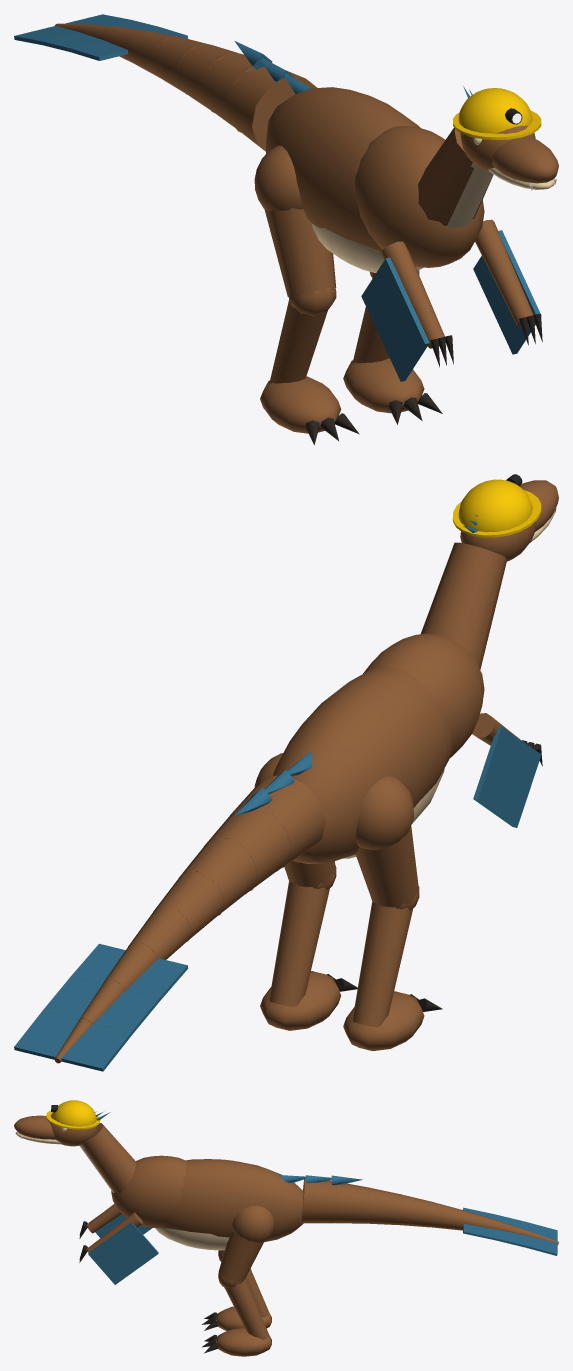
The model's file is dino_raptor_hf2c200.glb.
The picture shows the model from 3 angles, top to bottom: view 1: azimuth 30°, elevation 25°; view 2: azimuth 150°, elevation 25°; view 3: azimuth 270°, elevation 25°; orthographic projection. The views are drawn at different scales.
Parts seen in each view (by area): view 1: dino_hips, dino_head, dino_arms_0_sh, dino_legs_0_hip, dino_arms_1_sh, dino_neckBase, dino_legs_0_ankle, dino_legs_0_knee, dino_legs_1_ankle, dino_tail_0_p, dino_tail_1_p, dino_tail_2_p (+6 smaller); view 2: dino_hips, dino_legs_0_hip, dino_neckBase, dino_head, dino_arms_0_sh, dino_legs_1_knee, dino_legs_0_knee, dino_tail_7_p, dino_tail_6_p, dino_tail_5_p, dino_tail_1_p, dino_tail_0_p (+6 smaller); view 3: dino_hips, dino_arms_1_sh, dino_head, dino_legs_1_hip, dino_neckBase, dino_tail_0_p, dino_legs_1_knee, dino_legs_1_ankle, dino_tail_1_p, dino_tail_2_p, dino_tail_3_p, dino_tail_5_p (+6 smaller).
Boxes of the visible parts, box(x1,y1,x2,y2) form: dino_hips: box(234, 41, 484, 273); dino_head: box(452, 86, 558, 190); dino_arms_0_sh: box(361, 241, 453, 381); dino_legs_0_hip: box(254, 145, 336, 297); dino_arms_1_sh: box(473, 219, 542, 354); dino_neckBase: box(418, 128, 493, 227); dino_legs_0_ankle: box(260, 376, 359, 445); dino_legs_0_knee: box(269, 287, 336, 383); dino_legs_1_ankle: box(343, 357, 442, 424); dino_tail_0_p: box(225, 67, 317, 151); dino_tail_1_p: box(201, 53, 253, 132); dino_tail_2_p: box(176, 44, 240, 112); dino_hips: box(234, 633, 484, 863); dino_legs_0_hip: box(355, 776, 419, 908); dino_neckBase: box(421, 542, 507, 669); dino_head: box(452, 474, 558, 561); dino_arms_0_sh: box(472, 713, 542, 827); dino_legs_1_knee: box(269, 865, 336, 1006); dino_legs_0_knee: box(352, 886, 419, 1027); dino_tail_7_p: box(14, 1011, 131, 1071); dino_tail_6_p: box(42, 977, 159, 1035); dino_tail_5_p: box(70, 940, 188, 1000); dino_tail_1_p: box(204, 807, 291, 894); dino_tail_0_p: box(230, 775, 325, 871); dino_hips: box(111, 1155, 362, 1250); dino_arms_1_sh: box(79, 1212, 158, 1284); dino_head: box(14, 1100, 110, 1146); dino_legs_1_hip: box(218, 1205, 274, 1282); dino_neckBase: box(79, 1123, 136, 1192); dino_tail_0_p: box(301, 1179, 337, 1223); dino_legs_1_knee: box(218, 1271, 268, 1339); dino_legs_1_ankle: box(202, 1328, 271, 1356); dino_tail_1_p: box(332, 1183, 370, 1223); dino_tail_2_p: box(365, 1187, 402, 1225); dino_tail_3_p: box(397, 1194, 434, 1227); dino_tail_5_p: box(461, 1207, 497, 1239).
Bounding box in the file's own units: 0.646 × 1.8 × 3.7.
